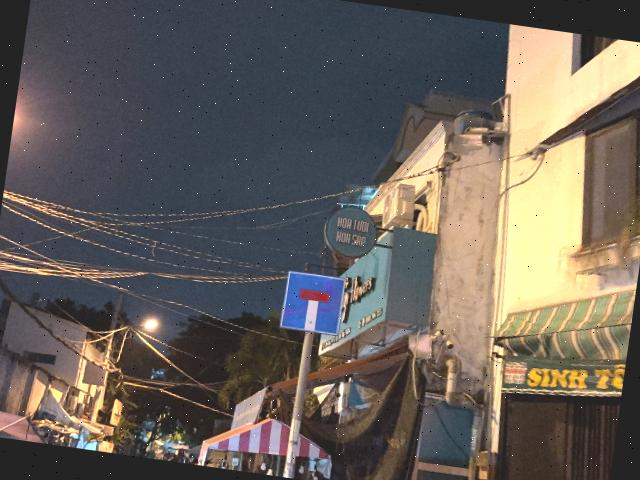duong-cut: (281, 271, 346, 336)
